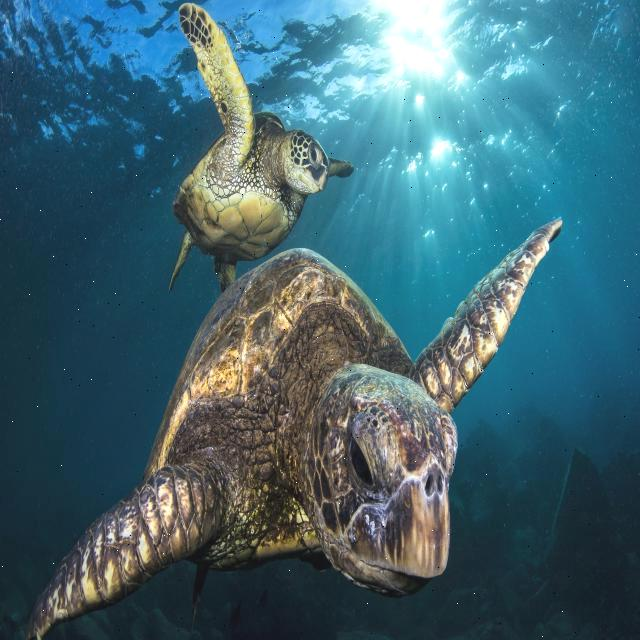tortoise: (8, 196, 574, 636), (159, 5, 349, 282)
